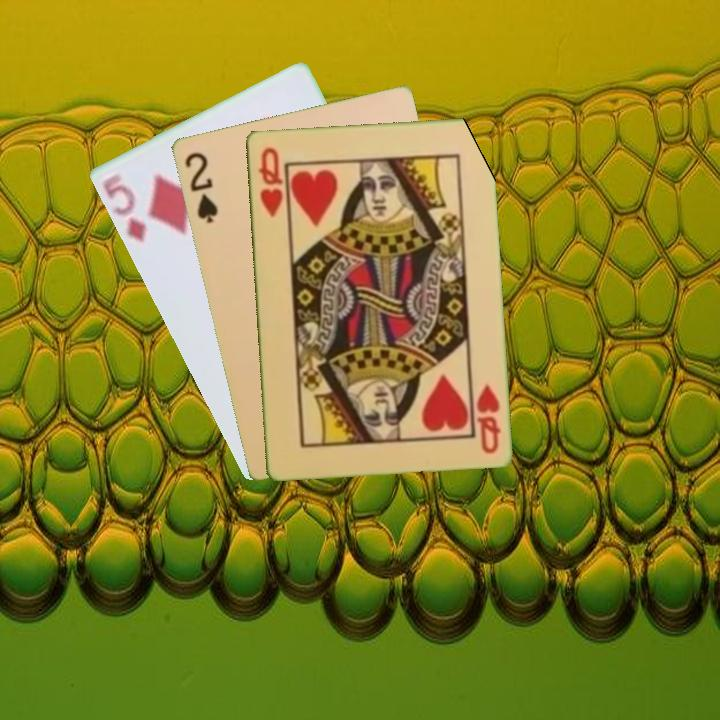2s: (181, 148, 221, 226)
5d: (98, 170, 148, 246)
Qh: (472, 379, 503, 457), (254, 143, 285, 220)
